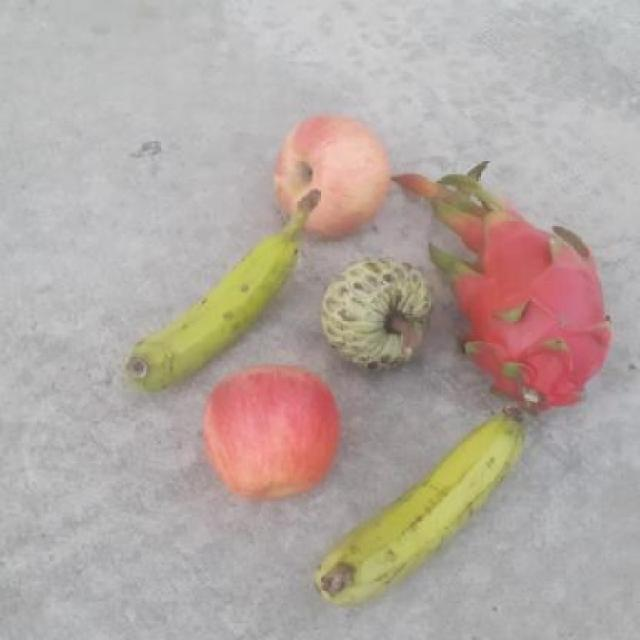apple: (202, 362, 346, 500), (271, 110, 394, 239)
banana: (316, 404, 529, 611), (125, 190, 328, 392)
dragon fruit: (448, 193, 618, 409)
sugar apple: (320, 252, 438, 372)
